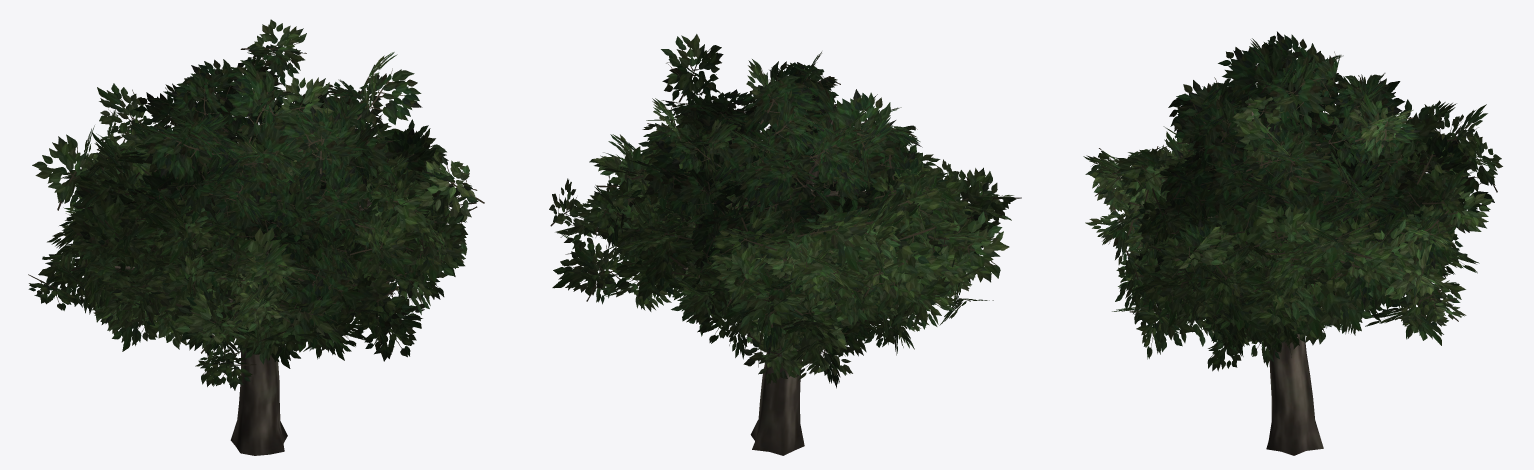
Rendered from arvore_figueira_lod0.glb.
3 views of the same model, side by side, from view 1: azimuth 30°, elevation 25°; view 2: azimuth 150°, elevation 25°; view 3: azimuth 270°, elevation 25° (orthographic). The views are drawn at different scales.
Visible parts, largest first — view 1: arvore_figueira_lod0; view 2: arvore_figueira_lod0; view 3: arvore_figueira_lod0.
Part boxes in pixels (x1,y1,x2,y2): arvore_figueira_lod0: (28,19,484,455); arvore_figueira_lod0: (549,34,1021,455); arvore_figueira_lod0: (1083,31,1502,455).
Bounding box in the file's own units: 10.72 × 9 × 9.28.
2 materials, 2 textured.
